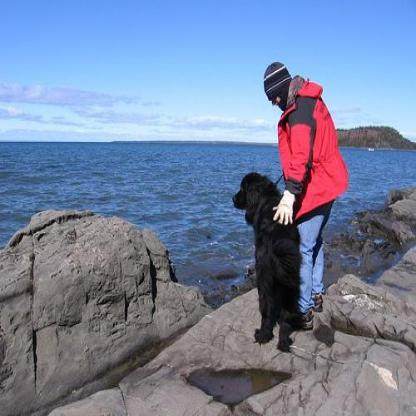Newfoundland: (228, 166, 304, 355)
